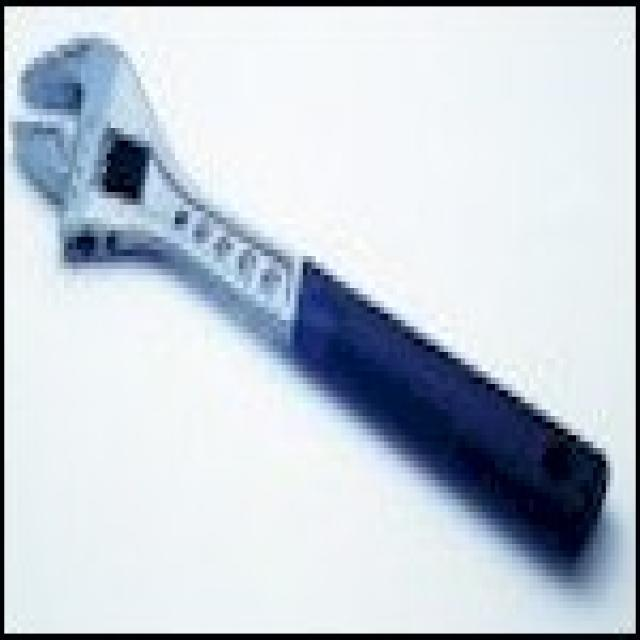wrench: (0, 12, 619, 570)
